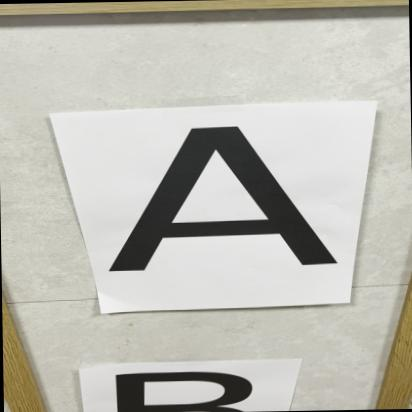seat: (84, 107, 344, 286)
